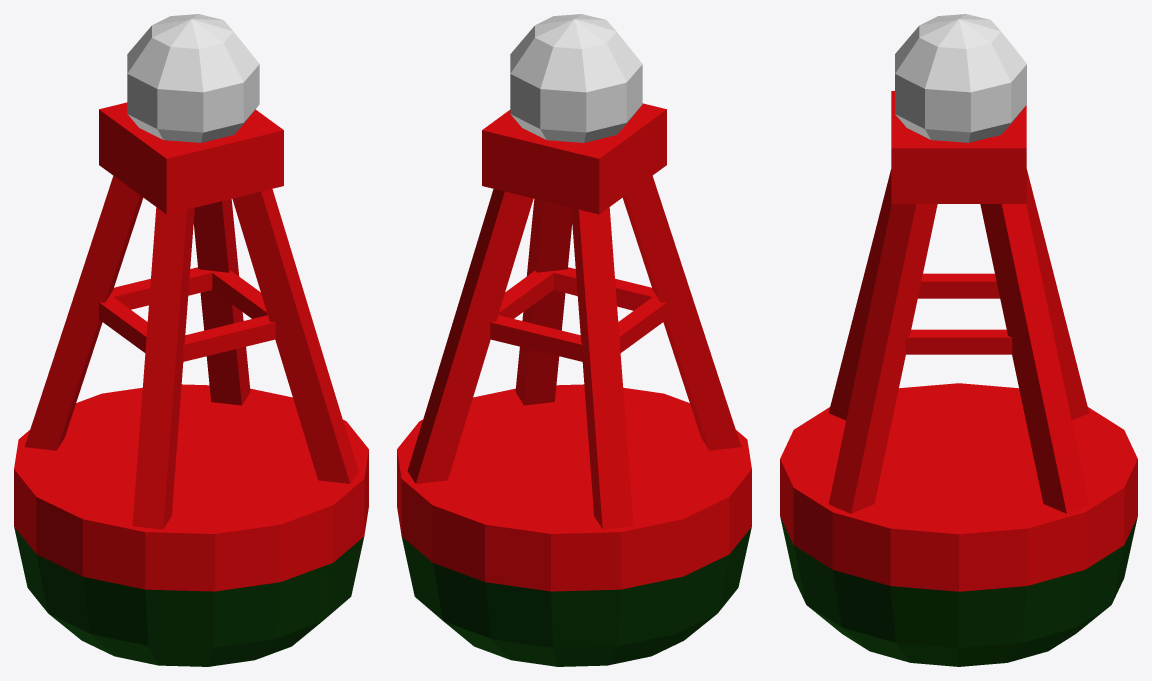
Rendered from v1_buoy.fbx.
3 renders of one model, left to right at view 1: azimuth 30°, elevation 25°; view 2: azimuth 150°, elevation 25°; view 3: azimuth 270°, elevation 25°, orthographic.
Parts seen in each view (by area): view 1: Bars; view 2: Bars; view 3: Bars.
Part boxes in pixels (left/top/right/bottom): Bars: left=14, top=14, right=368, bottom=666; Bars: left=397, top=14, right=751, bottom=666; Bars: left=780, top=14, right=1137, bottom=666.
Bounding box in the file's own units: 403 × 768 × 403.
